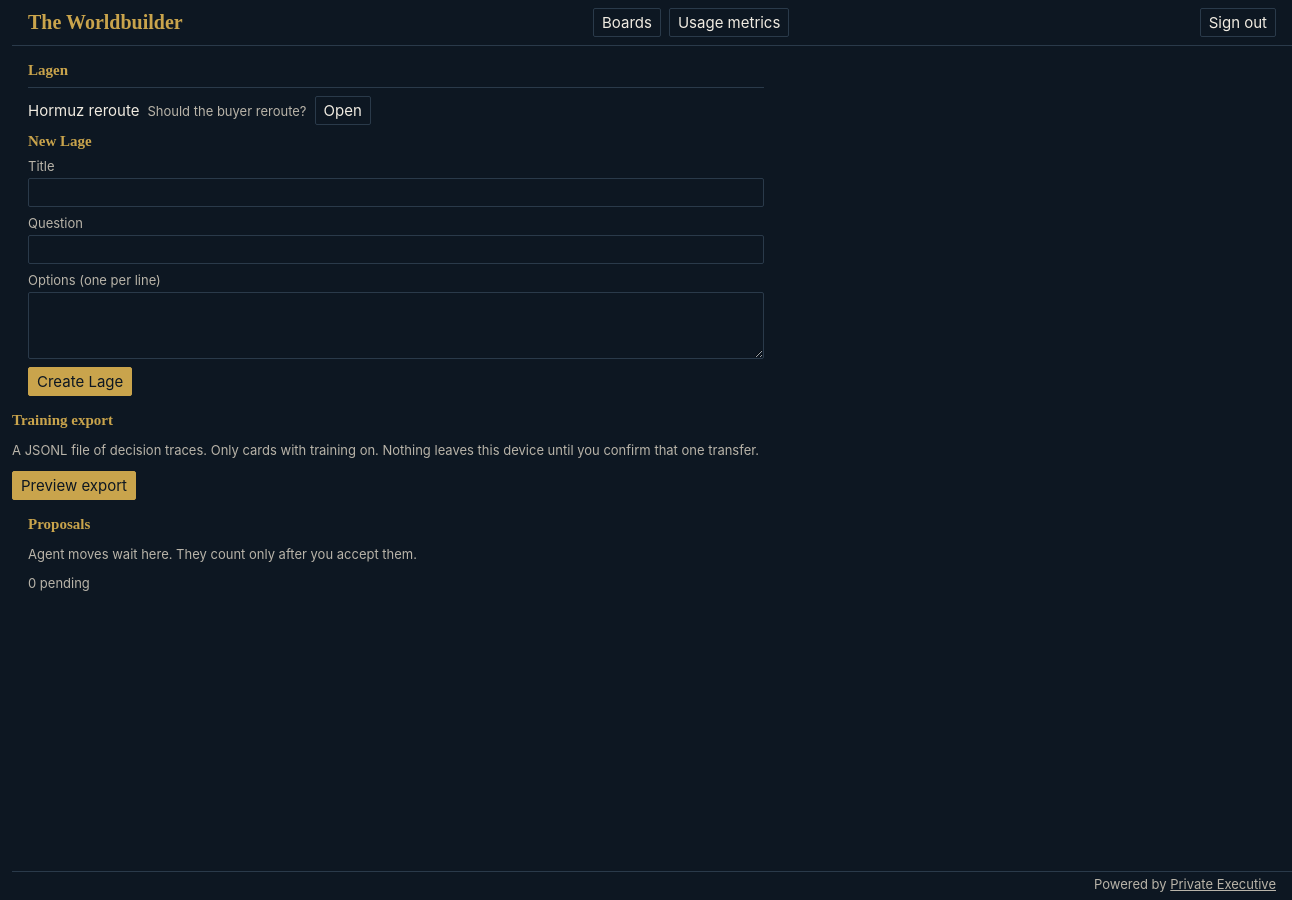
Test: sign in › signs out: the token leaves sessionStorage
This screenshot has width=1292, height=900.
Expected: the element with test id "lage-list" is shown, [28,62,764,133]
Click the button with test id "session-signout". click: point(1238, 22)
box: [1200,8,1276,37]
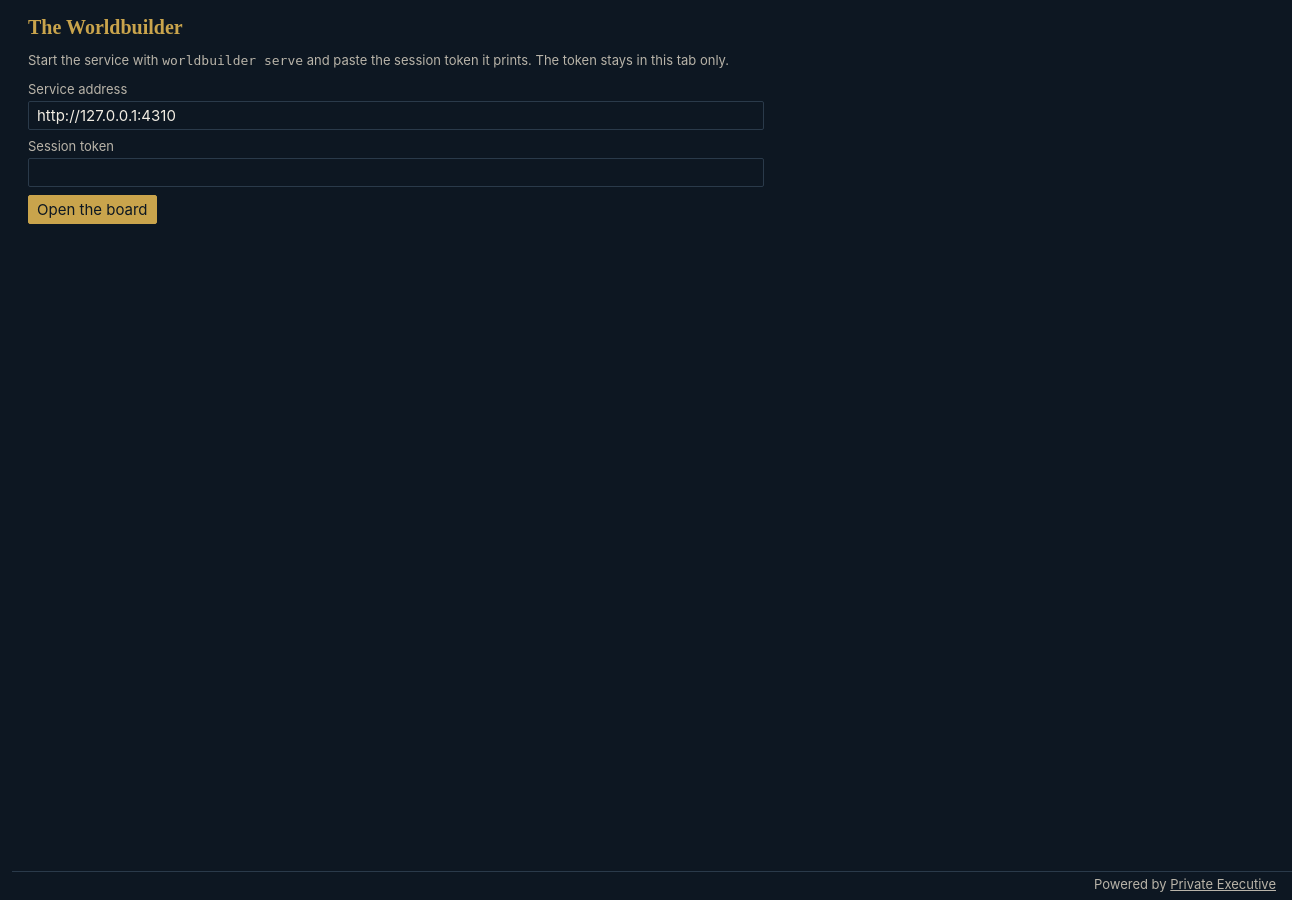
Expected: the form with test id "login-form" is shown, [28,52,764,224]
